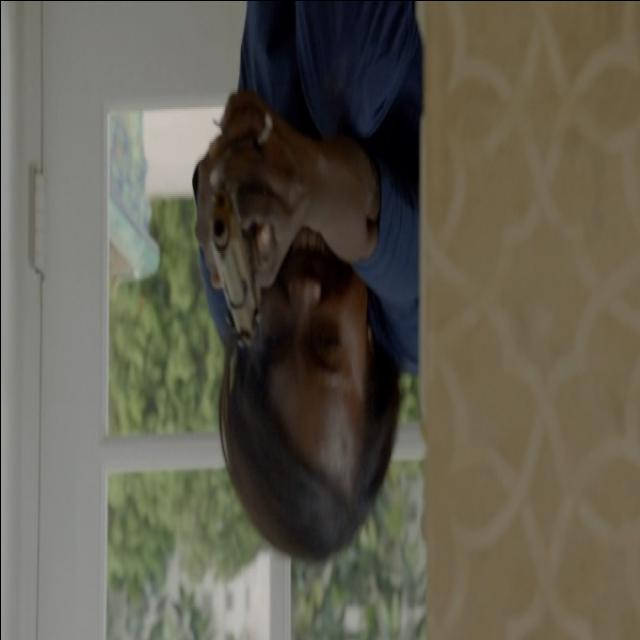weapons: (185, 151, 281, 364)
